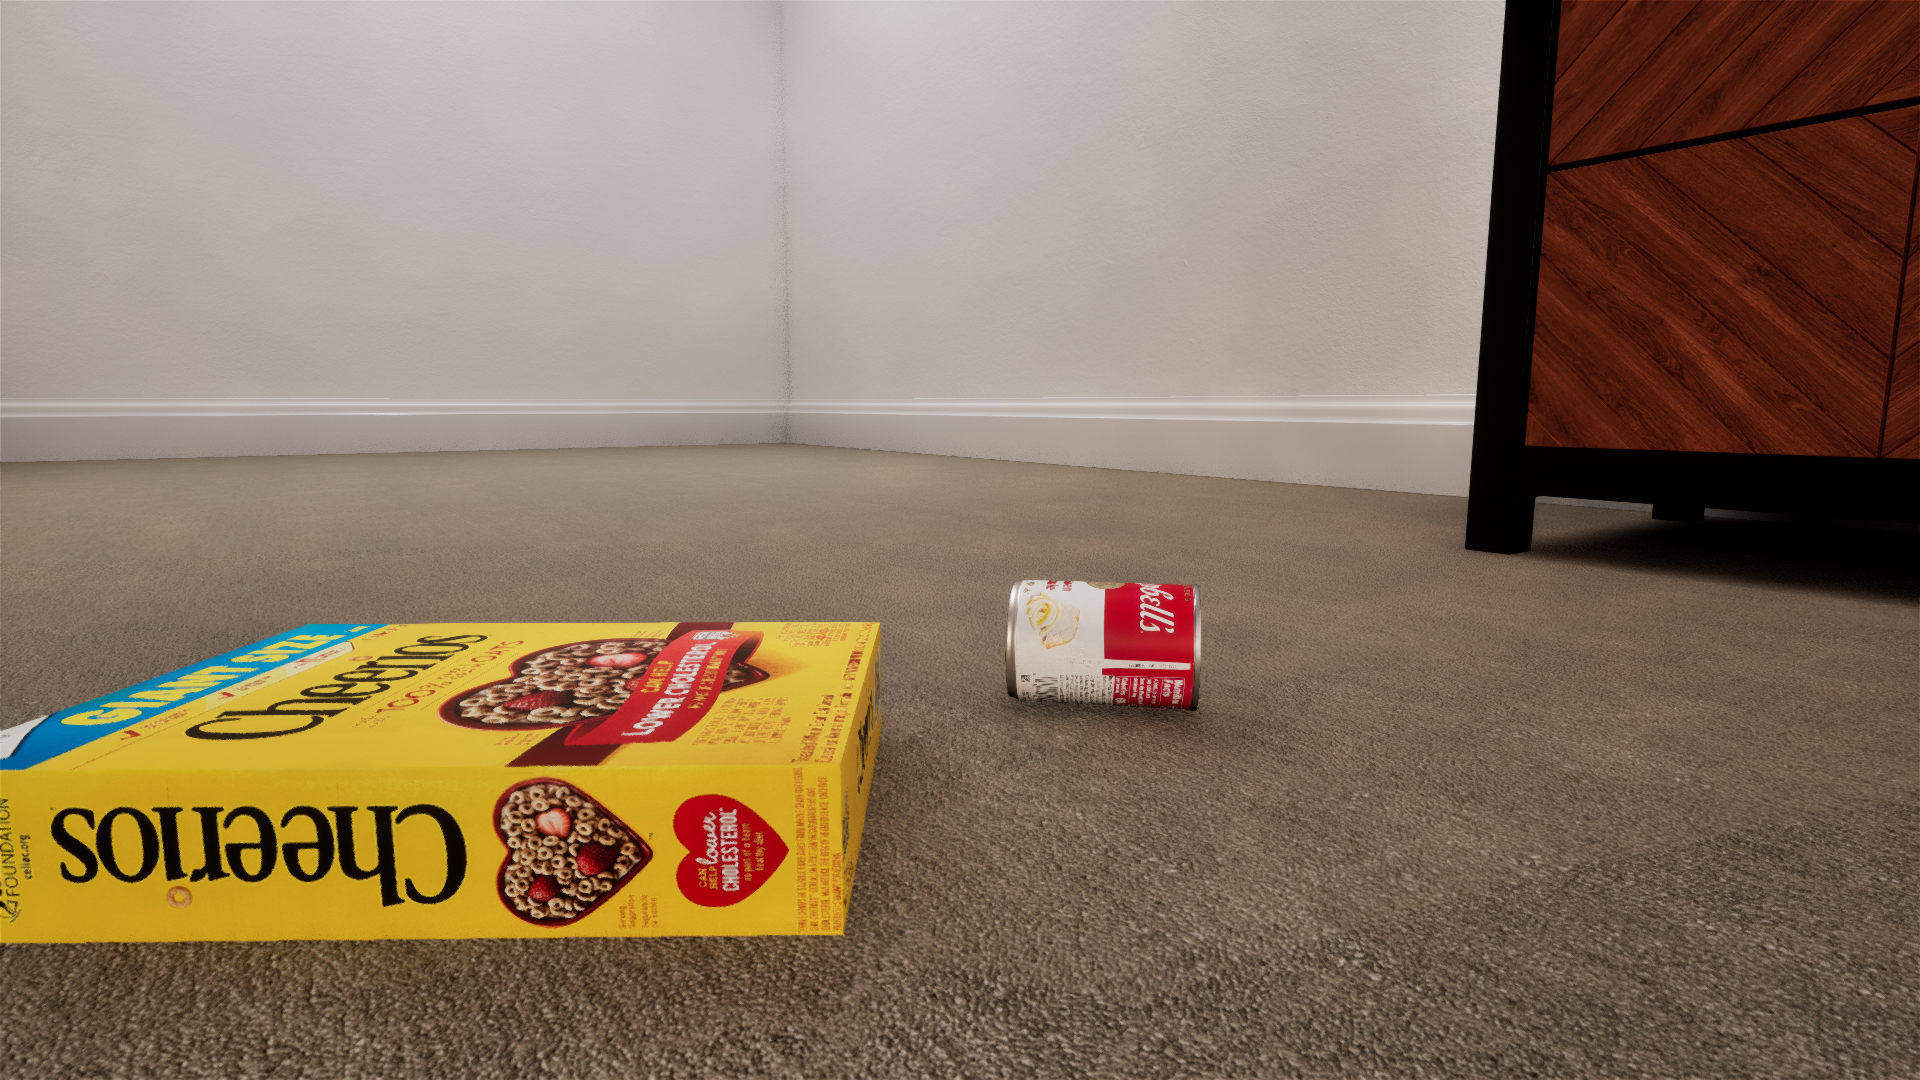cheerios: (1436, 556, 1549, 723)
soup: (1365, 640, 1422, 678)
